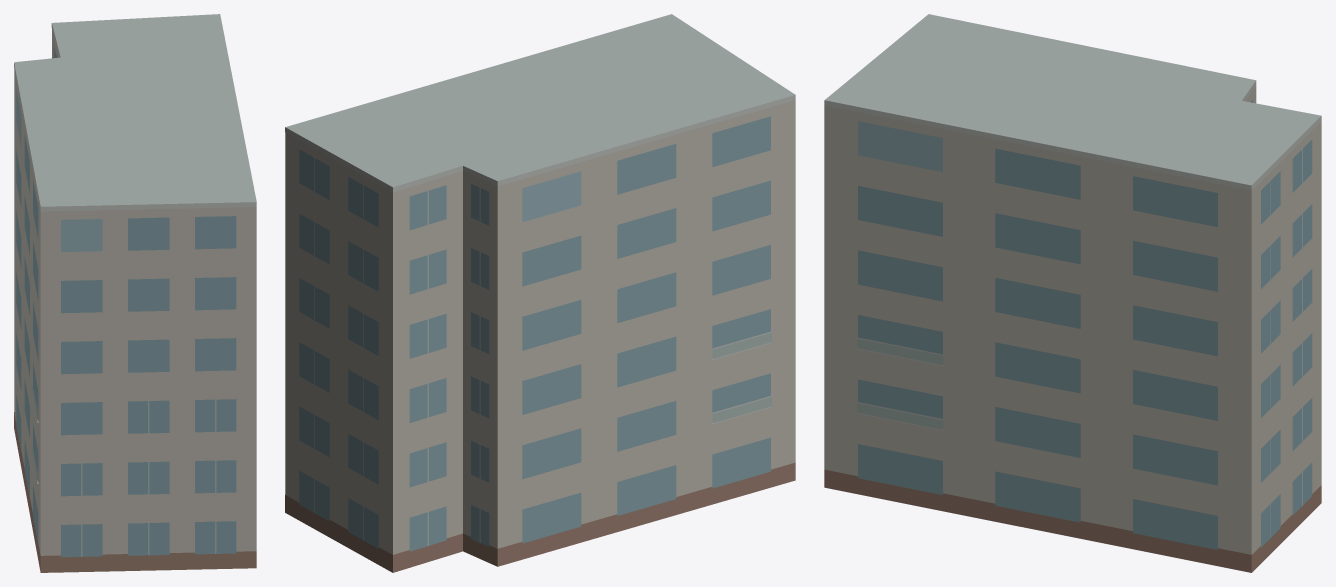
Rendered from survey-upis-32593469.glb.
3 renders of one model, left to right at view 1: azimuth 30°, elevation 25°; view 2: azimuth 150°, elevation 25°; view 3: azimuth 270°, elevation 25°, orthographic. The views are drawn at different scales.
Parts seen in each view (by area): view 1: survey-upis-32593469.tmp; view 2: survey-upis-32593469.tmp; view 3: survey-upis-32593469.tmp.
Part boxes in pixels (x1,y1,x2,y2): survey-upis-32593469.tmp: [14, 14, 256, 572]; survey-upis-32593469.tmp: [285, 14, 795, 572]; survey-upis-32593469.tmp: [824, 14, 1321, 572].
Size of the model in its own units: 17.53 by 18.45 by 21.46.
